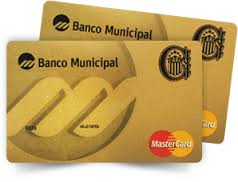tarjeta: (39, 1, 238, 143), (6, 40, 202, 164)
